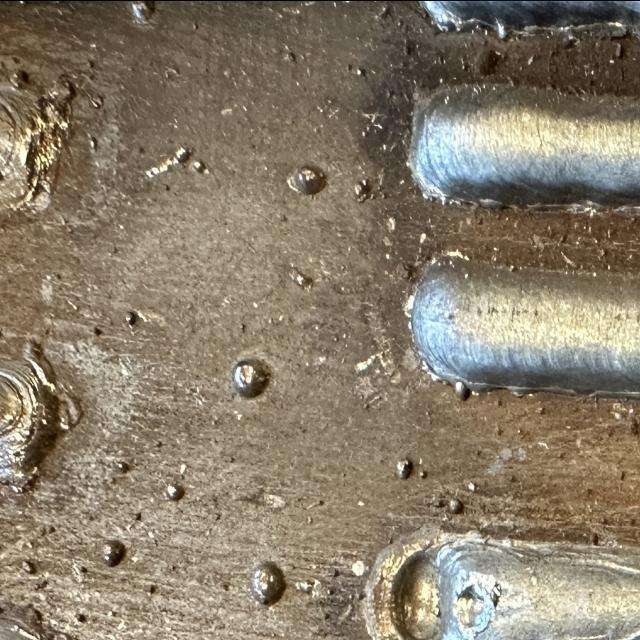Excess Reinforcement: (420, 0, 482, 30), (45, 73, 76, 133), (24, 340, 56, 392), (0, 453, 40, 494), (56, 385, 82, 430)
Spatters: (232, 358, 270, 398), (252, 562, 286, 603), (288, 165, 326, 195), (102, 538, 125, 567), (129, 0, 155, 23), (289, 267, 314, 288), (354, 178, 371, 202), (10, 68, 29, 87), (494, 17, 511, 38), (166, 482, 185, 500), (86, 90, 104, 108), (396, 458, 412, 478), (455, 380, 470, 400), (21, 558, 36, 575), (190, 158, 206, 173), (449, 497, 464, 513), (175, 147, 190, 162), (125, 310, 138, 327), (88, 133, 98, 151), (116, 460, 129, 473), (388, 215, 396, 232), (75, 612, 86, 623), (356, 65, 366, 77), (468, 480, 476, 492), (419, 468, 428, 478)
